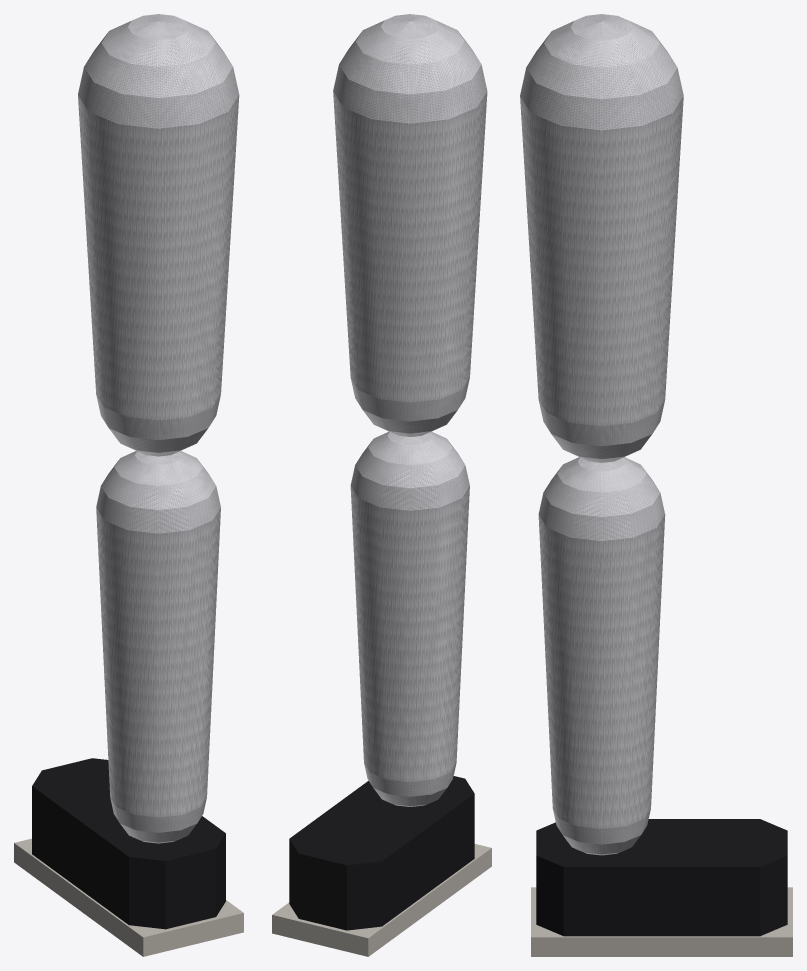
File: char_guard_leg.obj
The picture shows the model from 3 angles, left to right: view 1: azimuth 30°, elevation 25°; view 2: azimuth 150°, elevation 25°; view 3: azimuth 270°, elevation 25°; orthographic projection. The views are drawn at different scales.
Visible parts, largest first — view 1: char_guard_leg; view 2: char_guard_leg; view 3: char_guard_leg.
Boxes of the visible parts, x1,y1,x2,y2 form: char_guard_leg: [14, 14, 243, 956]; char_guard_leg: [272, 14, 491, 956]; char_guard_leg: [520, 14, 792, 956].
Bounding box in the file's own units: 0.15 × 0.92 × 0.25.
Materials: 3 (1 with a texture image).
